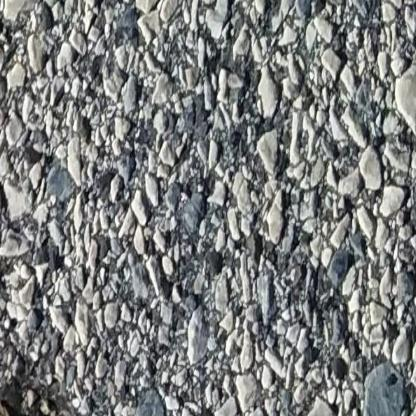Cracks: (0, 351, 85, 416)
